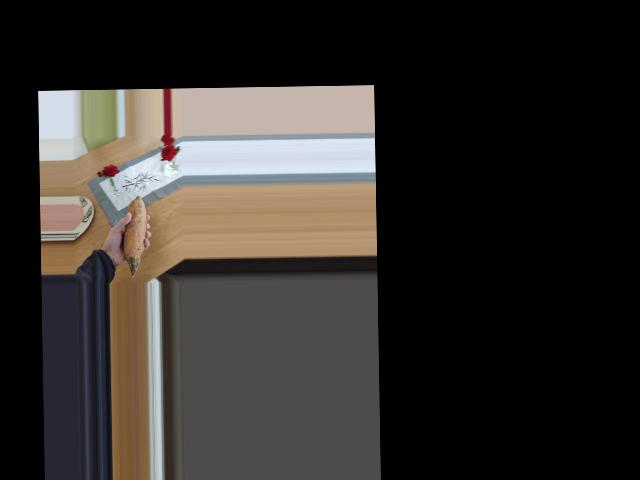sweet_potato: (115, 194, 150, 271)
